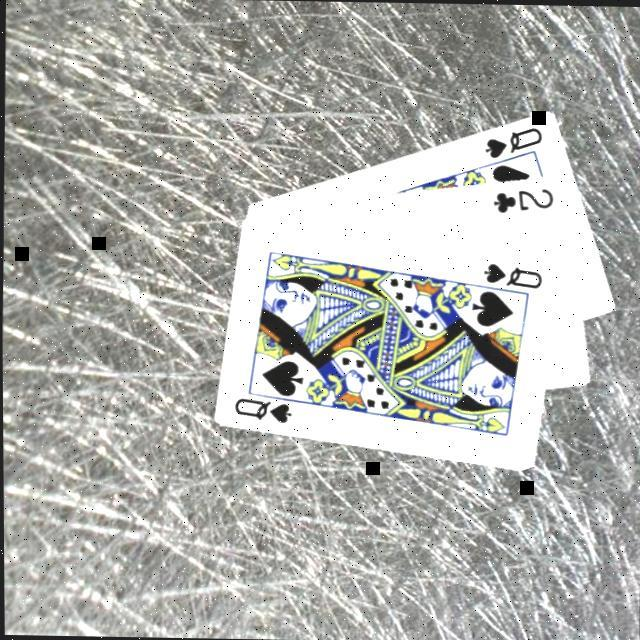2C: (491, 181, 559, 214)
QS: (482, 121, 547, 160), (480, 257, 547, 290), (231, 391, 296, 424)
